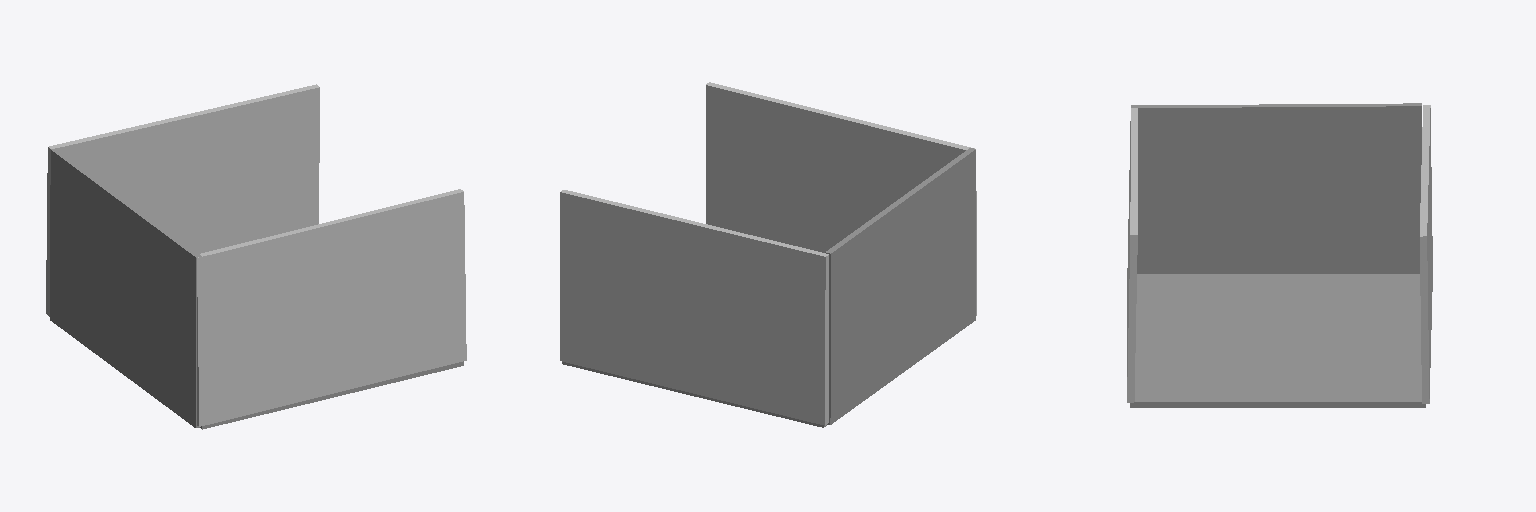
Rendered from room.obj.
3 views of the same model, side by side, from view 1: azimuth 30°, elevation 25°; view 2: azimuth 150°, elevation 25°; view 3: azimuth 270°, elevation 25° (orthographic).
Visible parts, largest first — view 1: wall_left, wall_right, wall_front, floor; view 2: wall_right, wall_left, wall_front, floor; view 3: wall_front, floor, wall_right, wall_left.
Part boxes in pixels (left/top/right/bottom): wall_left: left=197, top=189, right=466, bottom=426; wall_right: left=46, top=84, right=319, bottom=316; wall_front: left=50, top=148, right=201, bottom=427; floor: left=200, top=361, right=463, bottom=429; wall_right: left=560, top=190, right=828, bottom=425; wall_left: left=706, top=82, right=976, bottom=315; wall_front: left=825, top=148, right=975, bottom=424; floor: left=562, top=362, right=826, bottom=427; wall_front: left=1131, top=103, right=1421, bottom=273; floor: left=1130, top=274, right=1425, bottom=407; wall_right: left=1420, top=105, right=1432, bottom=403; wall_left: left=1127, top=108, right=1137, bottom=402.
Bounding box in the file's own units: 39.43 × 24.45 × 38.92.